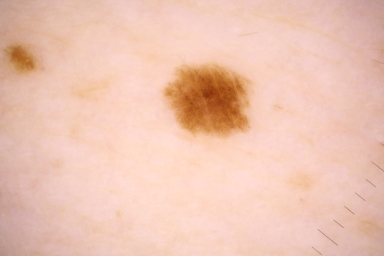melanoma: (162, 63, 255, 137), (1, 43, 39, 72)
